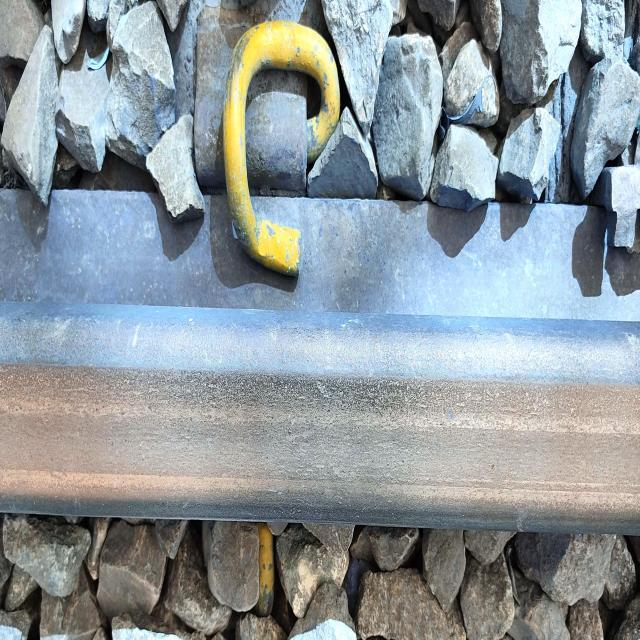Good Fasteners: (193, 3, 340, 275), (256, 523, 274, 616)
